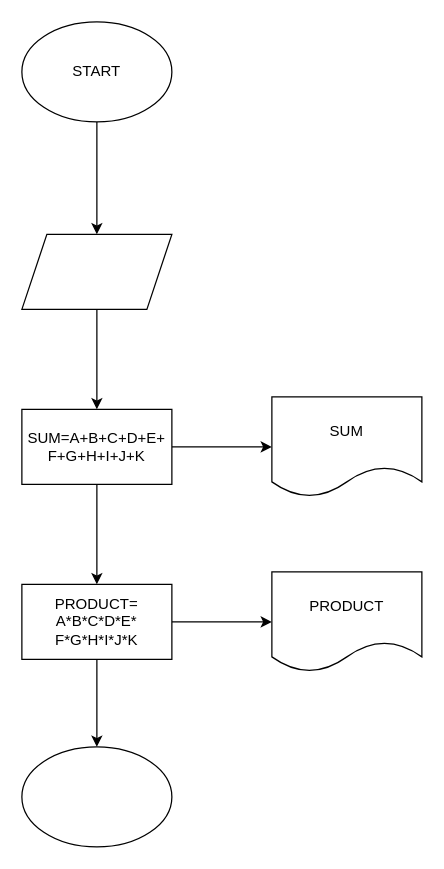
This 444x869 diagram has some shape labels left out. The shapes that lost their labels are listed below. From the top down, each one's centre as x and y in pixels, then its label:
(x=96, y=271): read A,B,C,D,E, F,G,H,I,J
(x=96, y=796): END
